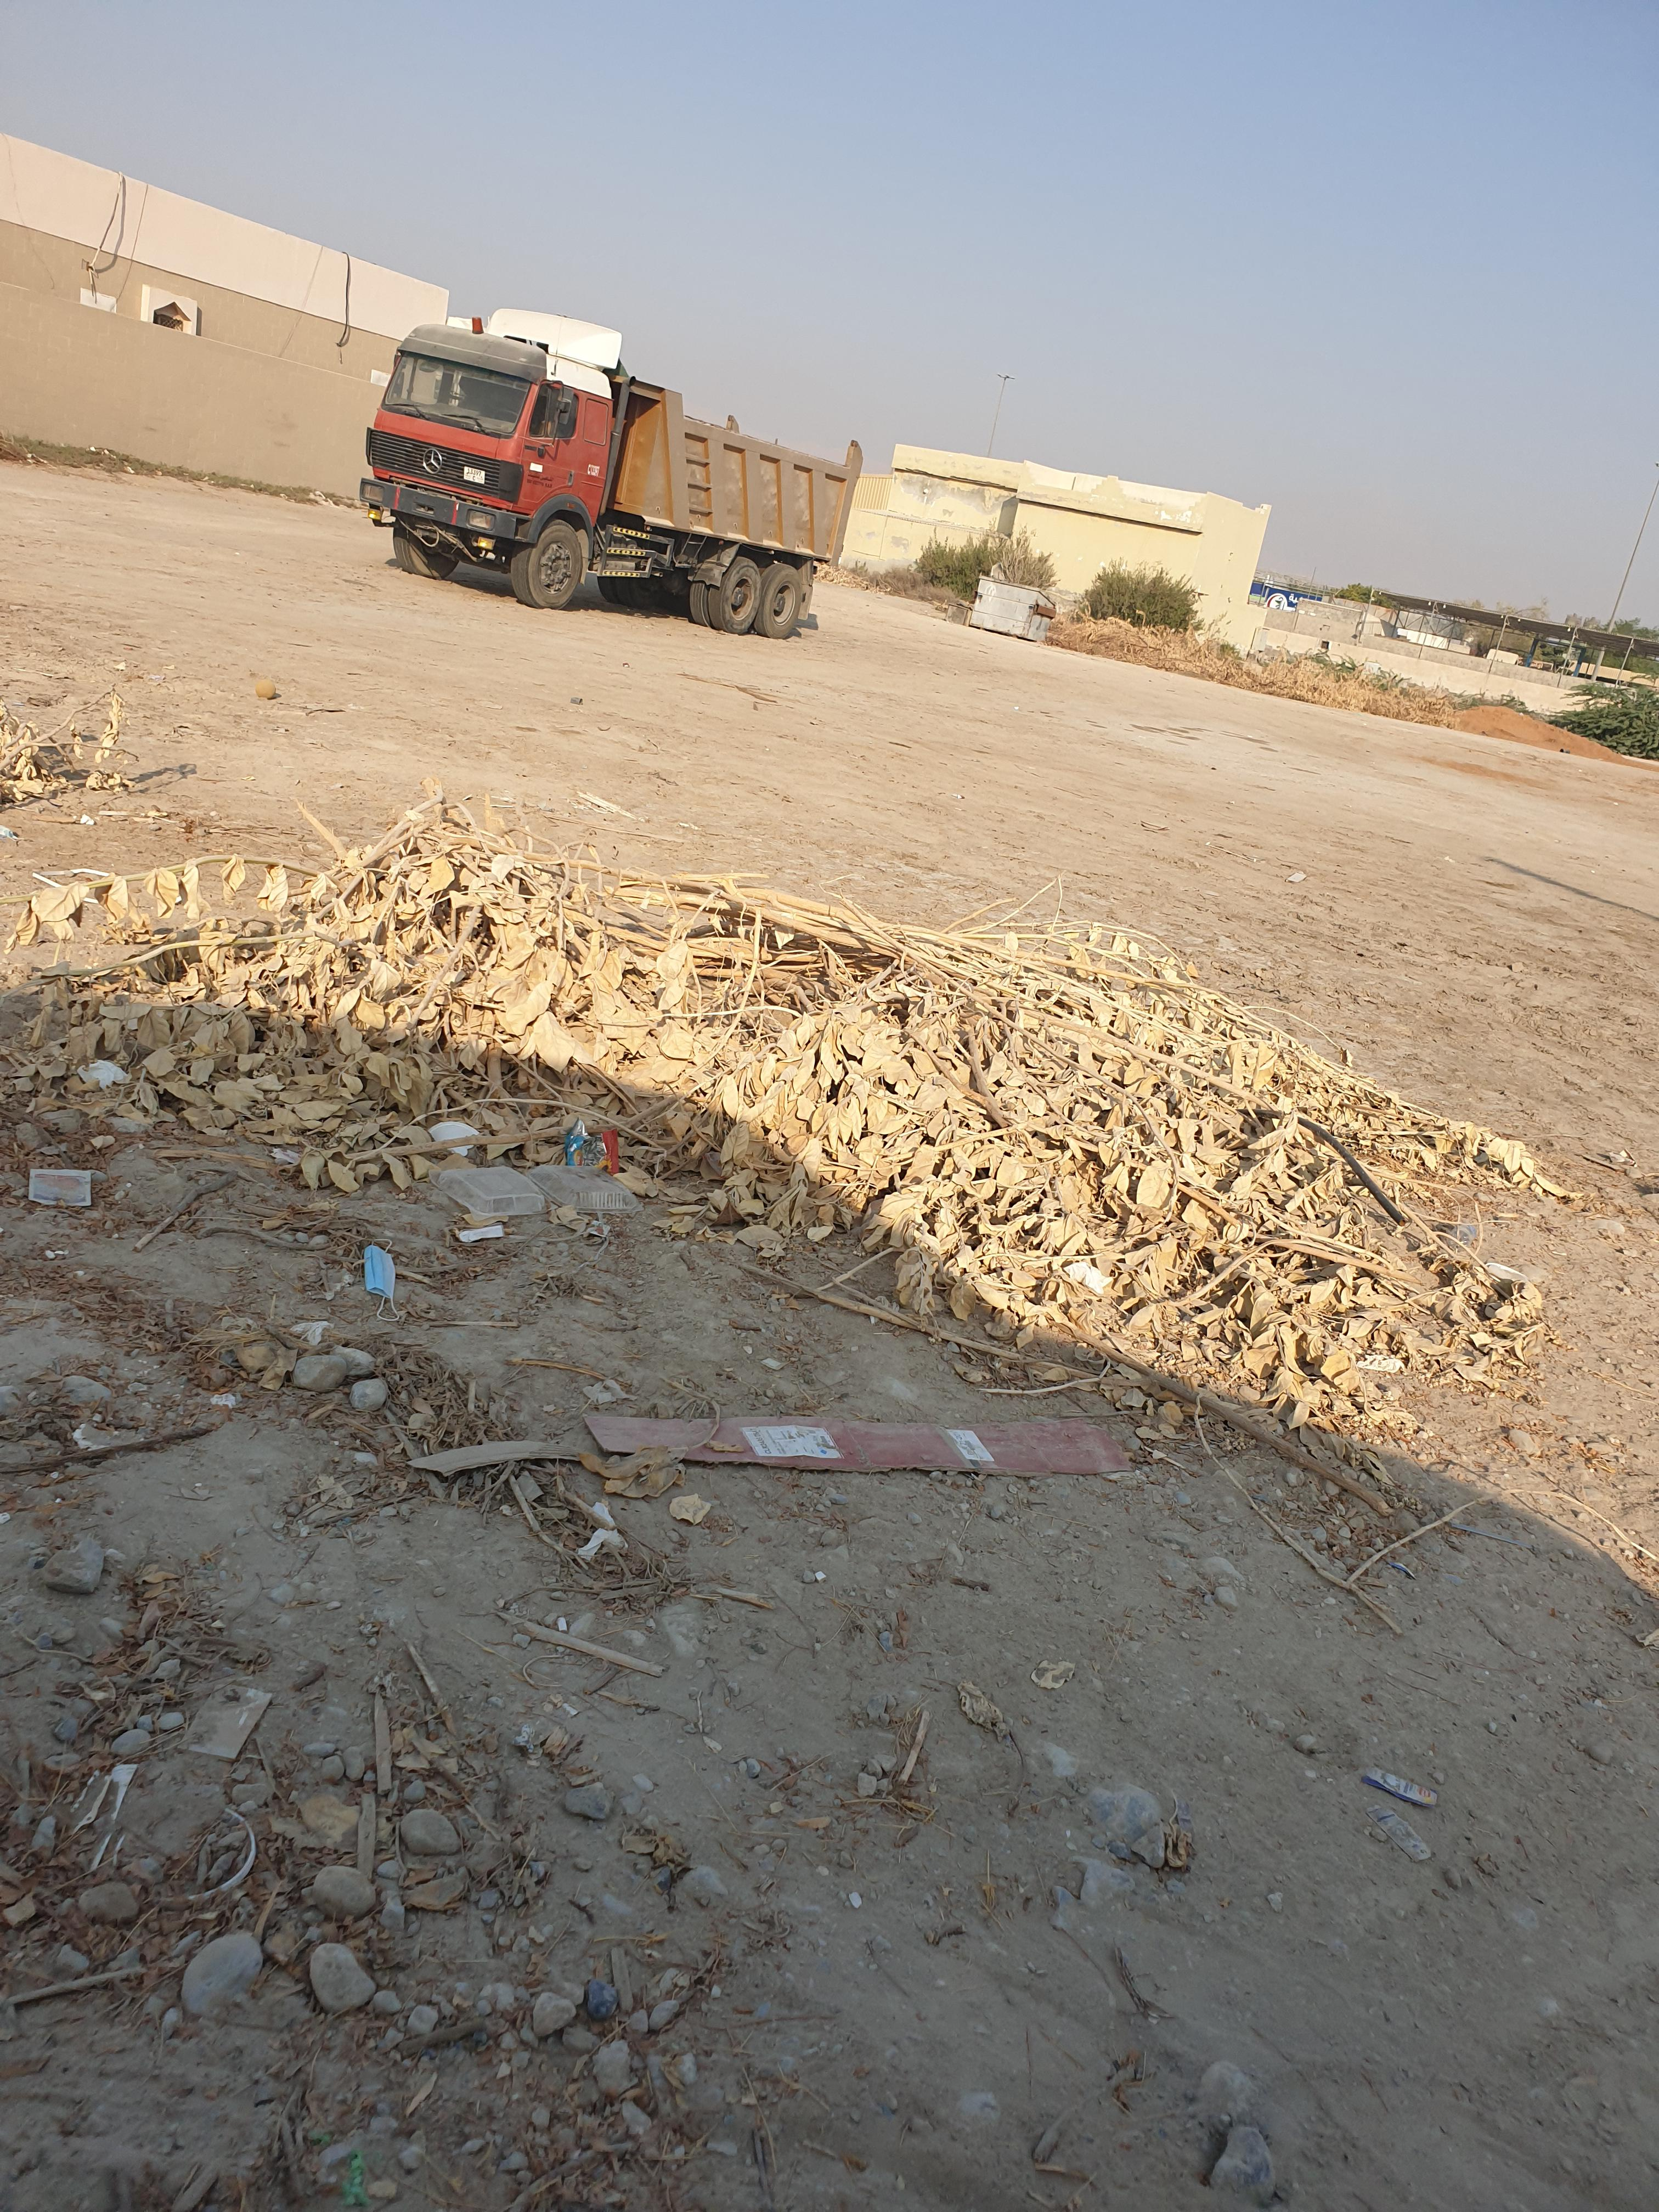fallen_trees: (193, 815, 1574, 1588), (12, 627, 171, 857)
